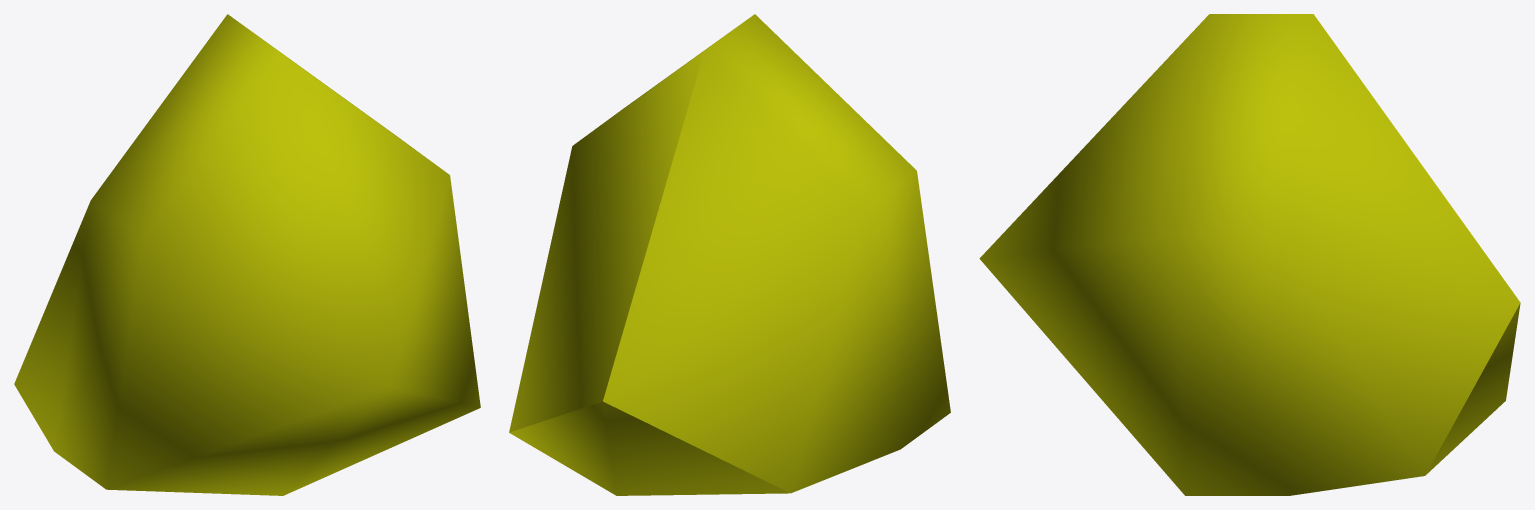
File: GobNose3.fbx
The picture shows the model from 3 angles, left to right: view 1: azimuth 30°, elevation 25°; view 2: azimuth 150°, elevation 25°; view 3: azimuth 270°, elevation 25°; orthographic projection. The views are drawn at different scales.
Parts seen in each view (by area): view 1: Icosphere; view 2: Icosphere; view 3: Icosphere.
Part boxes in pixels (x1,y1,x2,y2): Icosphere: [14, 14, 480, 495]; Icosphere: [509, 14, 950, 495]; Icosphere: [979, 14, 1520, 495].
Bounding box in the file's own units: 0.0492 × 0.054 × 0.0614.
